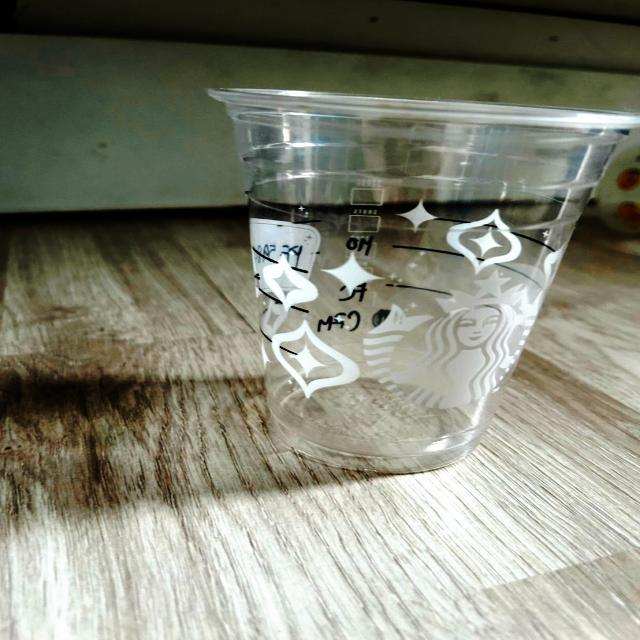Plastic Cup: (211, 89, 639, 473)
